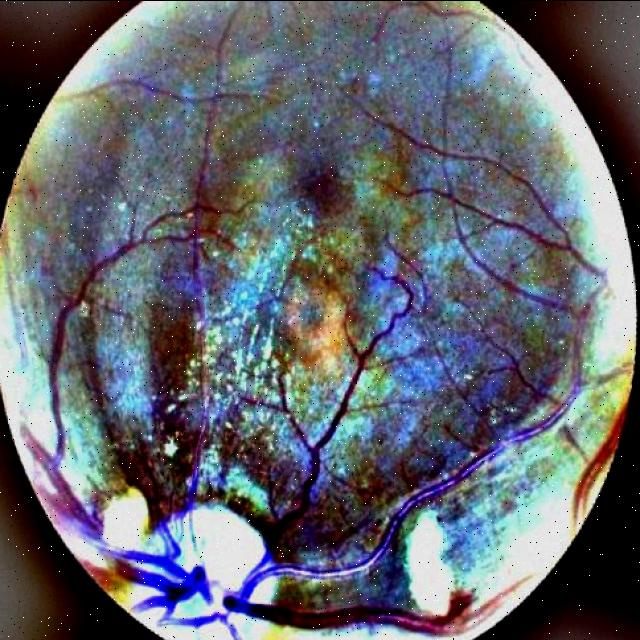Macula: (289, 152, 363, 238)
Nerves: (36, 222, 609, 637), (191, 9, 237, 447)
Optic Disk: (90, 440, 309, 640)
